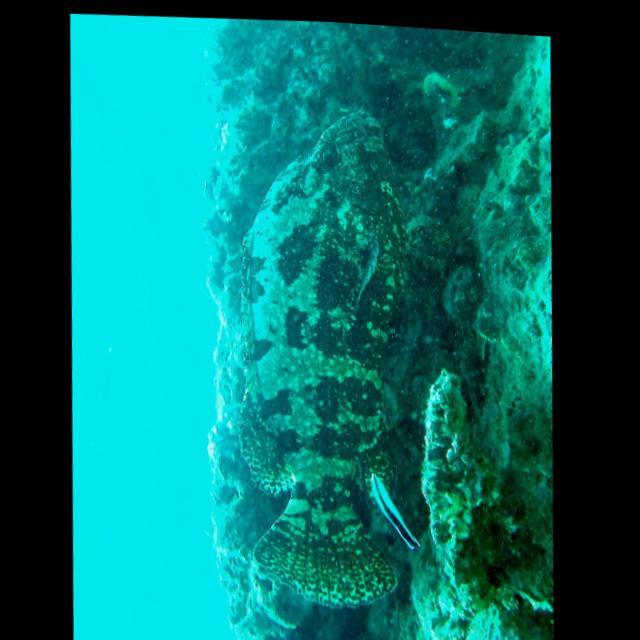Groupers: (218, 104, 423, 611)
